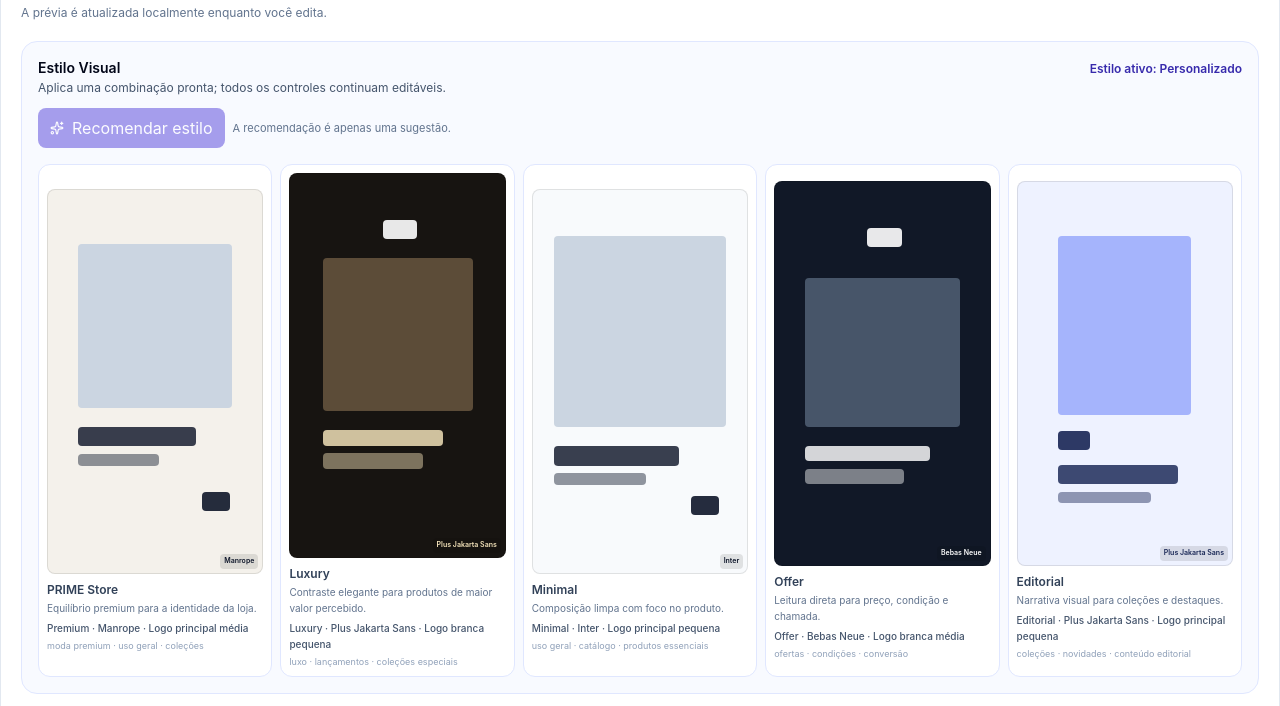
Scenario: StoryComposer › keeps the existing white-logo block when a Visual Style requires it
Click the button with aria-label "Aplicar estilo visual Offer".
click(882, 420)  # box [765,164,1000,677]
(page scrolled)
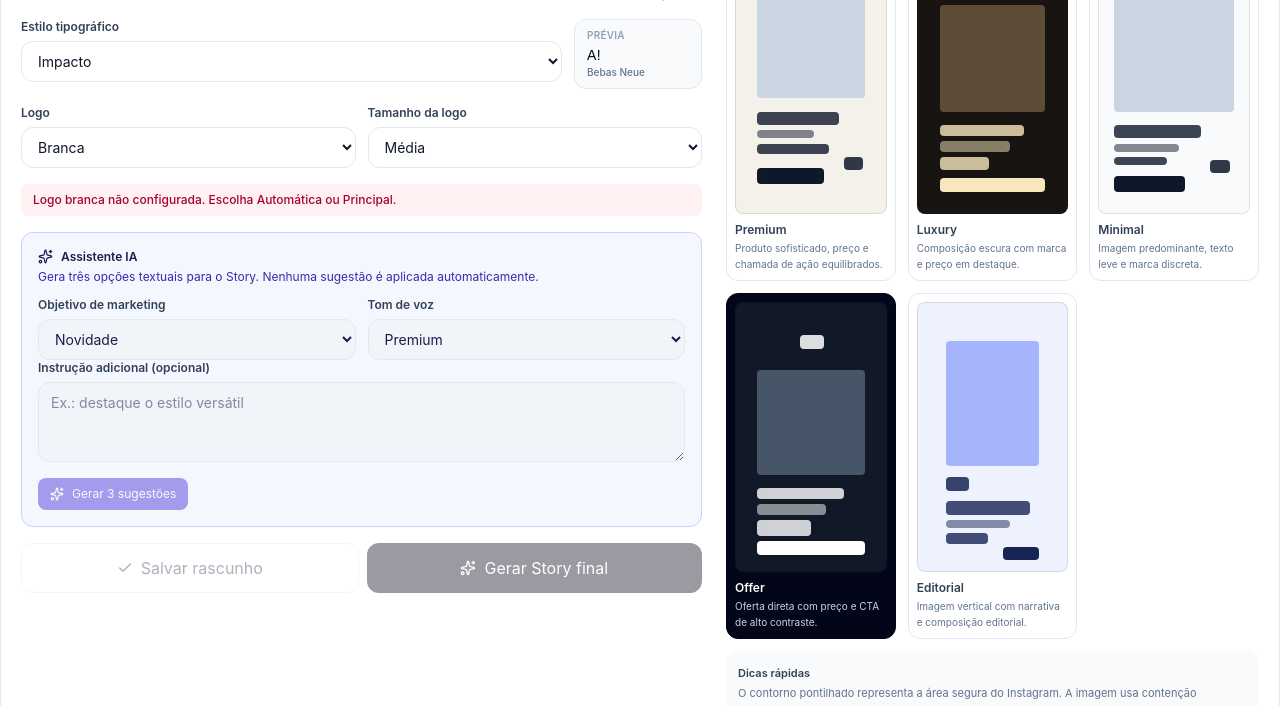
Check: the button "Gerar Story final" is disabled, box [366,543,702,593]
Check: the dropdown labelled "Logo" shows "Branca", box [21,127,356,168]
Check: the text "Logo branca não configurada. Escolha Automática ou Principal." is shown, box [21,184,702,216]
